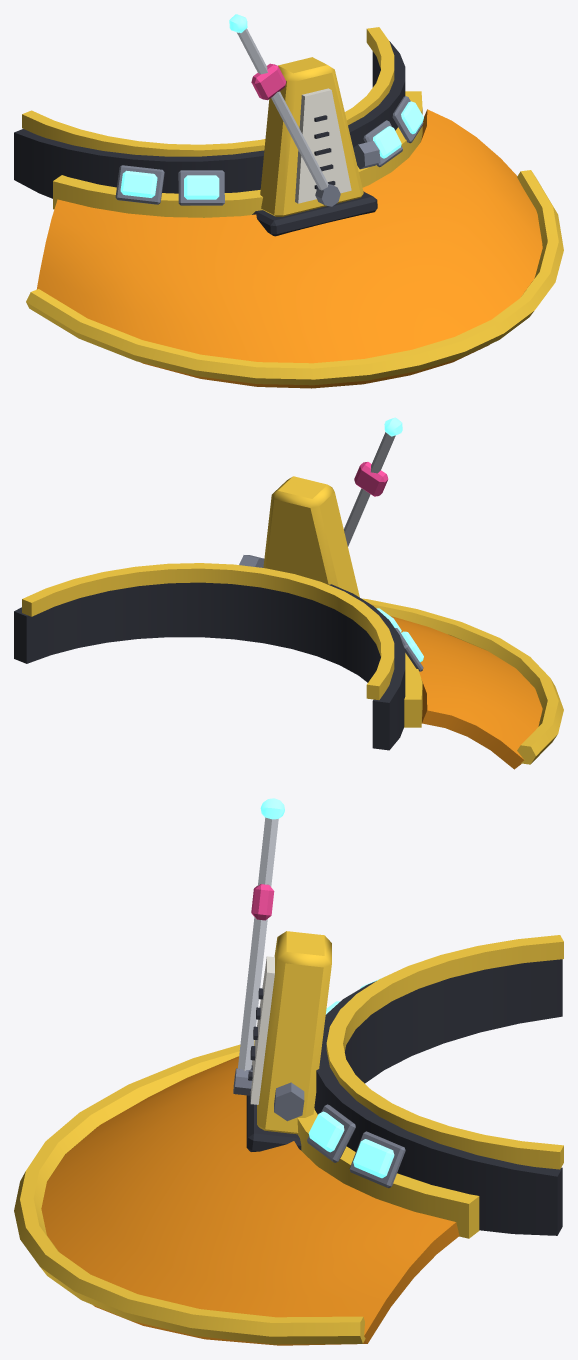
File: click_visor.glb
3 views of the same model, one above another, from view 1: azimuth 30°, elevation 25°; view 2: azimuth 150°, elevation 25°; view 3: azimuth 270°, elevation 25° (orthographic). The views are drawn at different scales.
Parts seen in each view (by area): view 1: Headgear; view 2: Headgear; view 3: Headgear.
Part boxes in pixels (bbox=[...]): Headgear: bbox=[14, 14, 563, 388]; Headgear: bbox=[14, 417, 563, 769]; Headgear: bbox=[14, 798, 563, 1345].
Size of the model in its own units: 0.2674 by 0.1555 by 0.2004.
